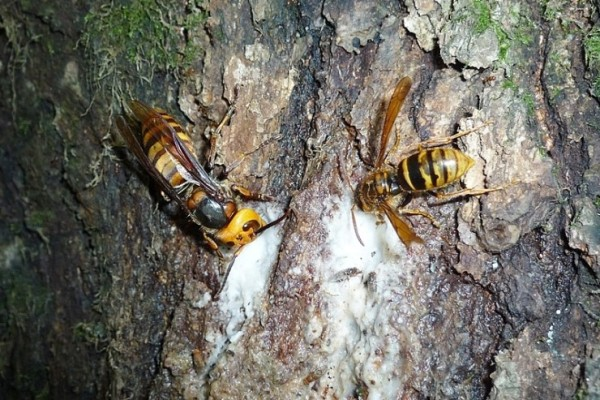asian_giant_hornet: (129, 104, 270, 264)
